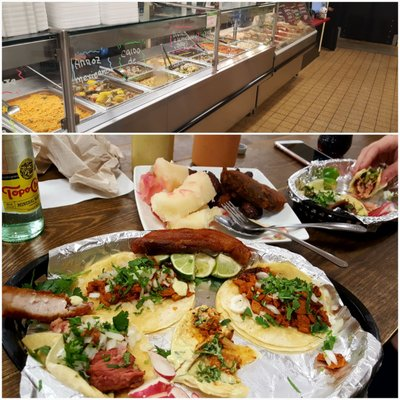burger: (216, 201, 350, 268)
pizza: (191, 135, 241, 168), (315, 134, 353, 160)
sushi: (287, 159, 398, 226)
